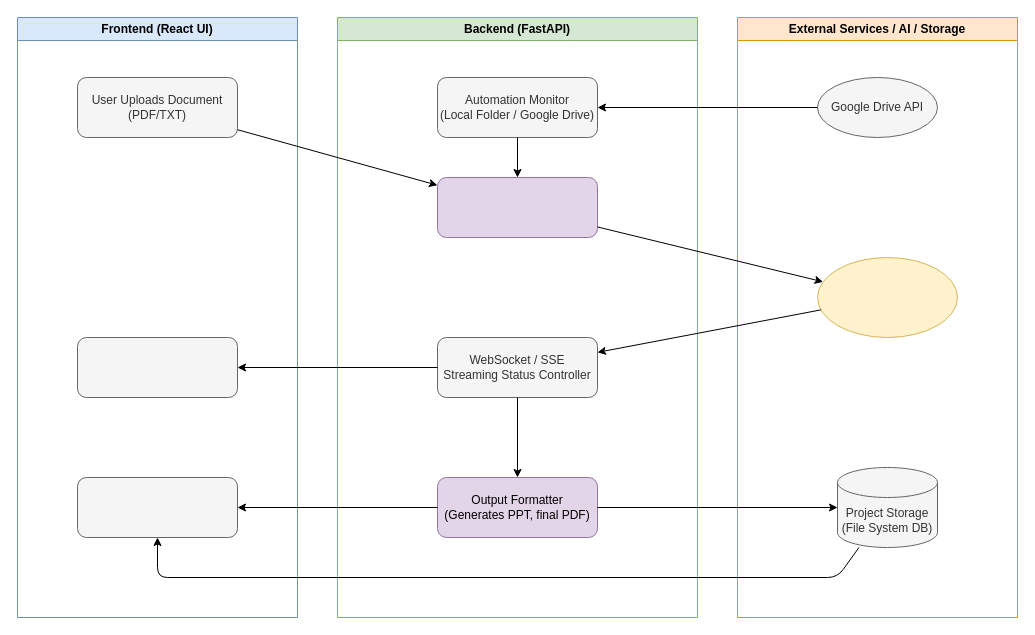
Image size: 1035x635. Some labels were removed from this diagram. Each missing label, with the centre of its shape:
Dashboard / Status Display (SSE Real-time UI): (157,367)
Document Parser (PyMuPDF & PDFPlumber) Text Extraction: (517,207)
Google Gemini AI SOP Content Generation (Summary, Training, Test): (887,297)
View & Download Results (PDF, PPT, UI): (157,507)
